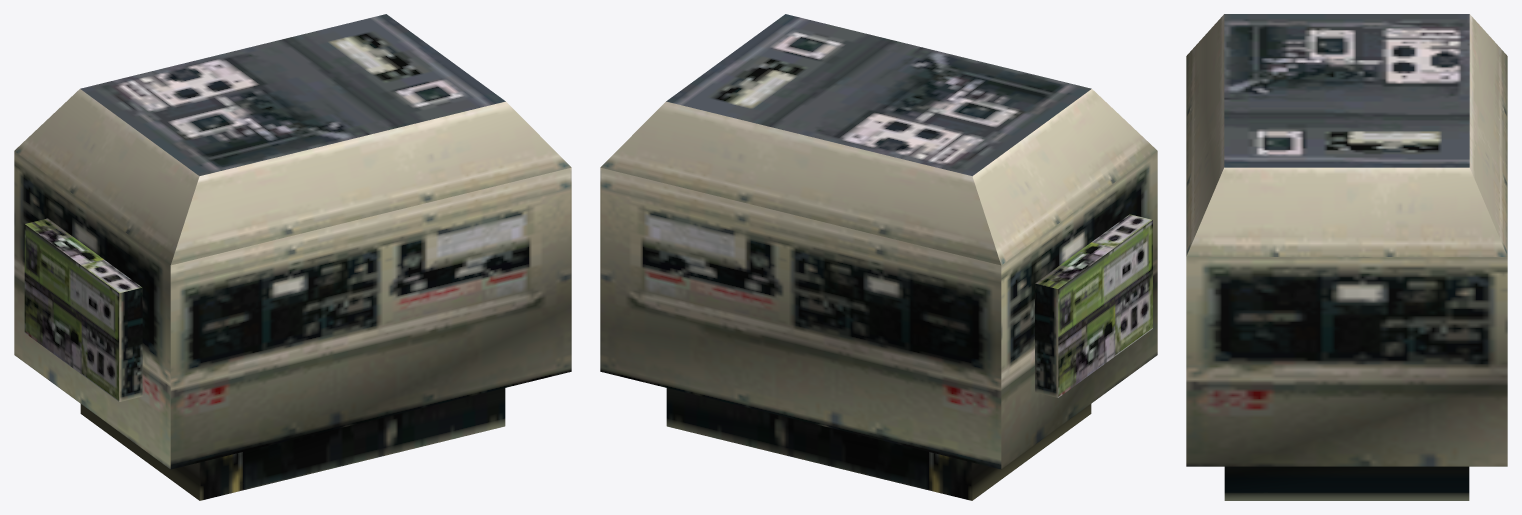
The model's file is M12_Generator01.glb.
The picture shows the model from 3 angles, left to right: view 1: azimuth 30°, elevation 25°; view 2: azimuth 150°, elevation 25°; view 3: azimuth 270°, elevation 25°; orthographic projection. The views are drawn at different scales.
Parts seen in each view (by area): view 1: M12_GENERATOR01; view 2: M12_GENERATOR01; view 3: M12_GENERATOR01.
Part boxes in pixels (box(x1,y1,x2,y2)): M12_GENERATOR01: box(14, 14, 571, 500); M12_GENERATOR01: box(600, 14, 1157, 500); M12_GENERATOR01: box(1186, 14, 1507, 500).
Size of the model in its own units: 0.914 by 0.669 by 0.584.
1 material, 1 textured.
